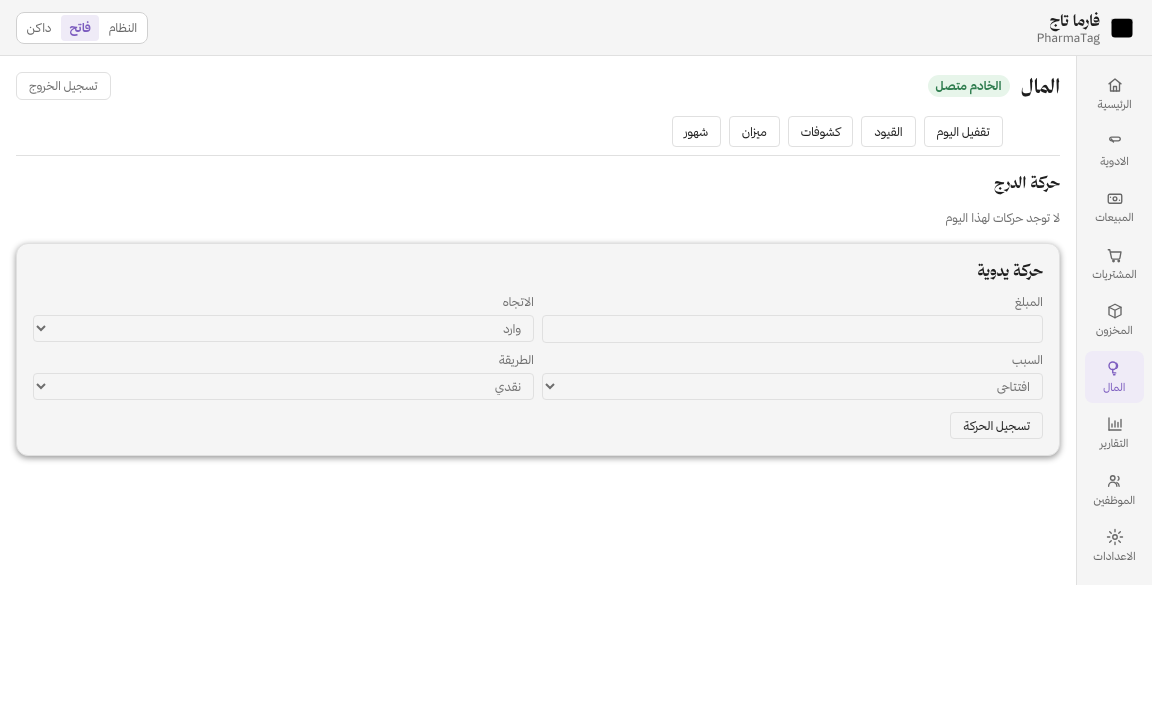
Test: MoneyPage — journals › lists entries and shows detail lines verbatim
Step 1. Click the tab "القيود" → (889, 132), box 861,116 -> 916,147
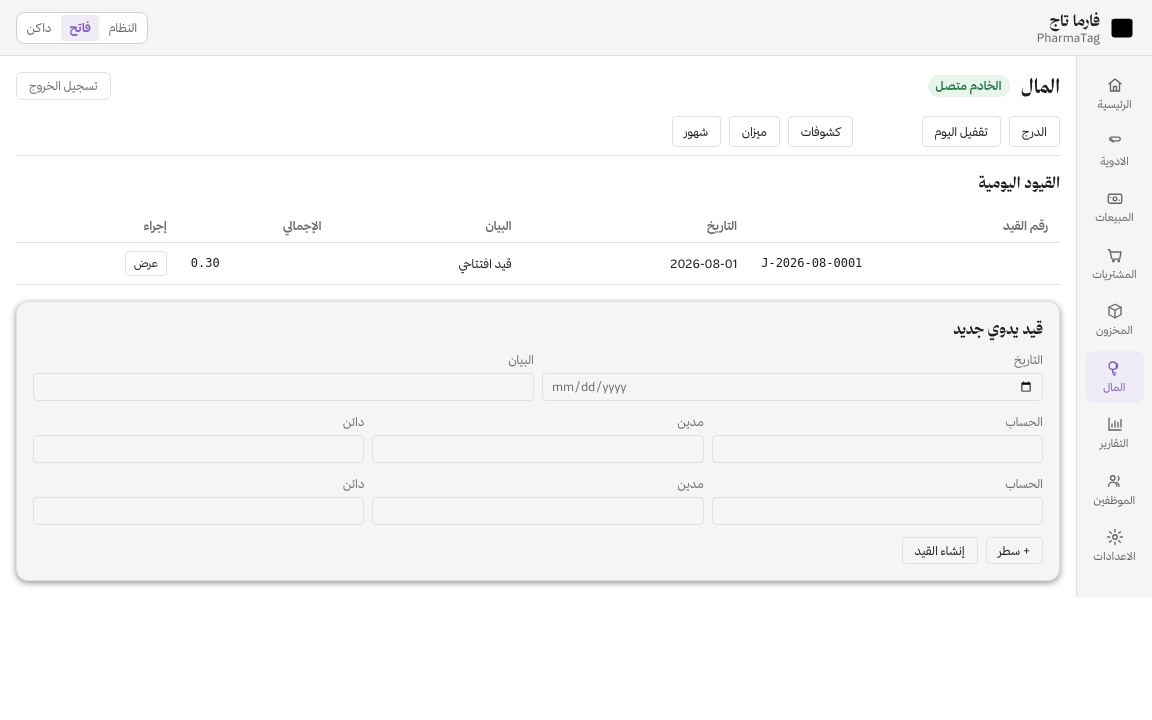
Expected: the text "قيد افتتاحي" is shown, 334,243 -> 524,284
Expected: the text "J-2026-08-0001" is shown, 749,243 -> 1060,284
Step 2. Click the button "عرض" → (146, 263), box 125,251 -> 167,276
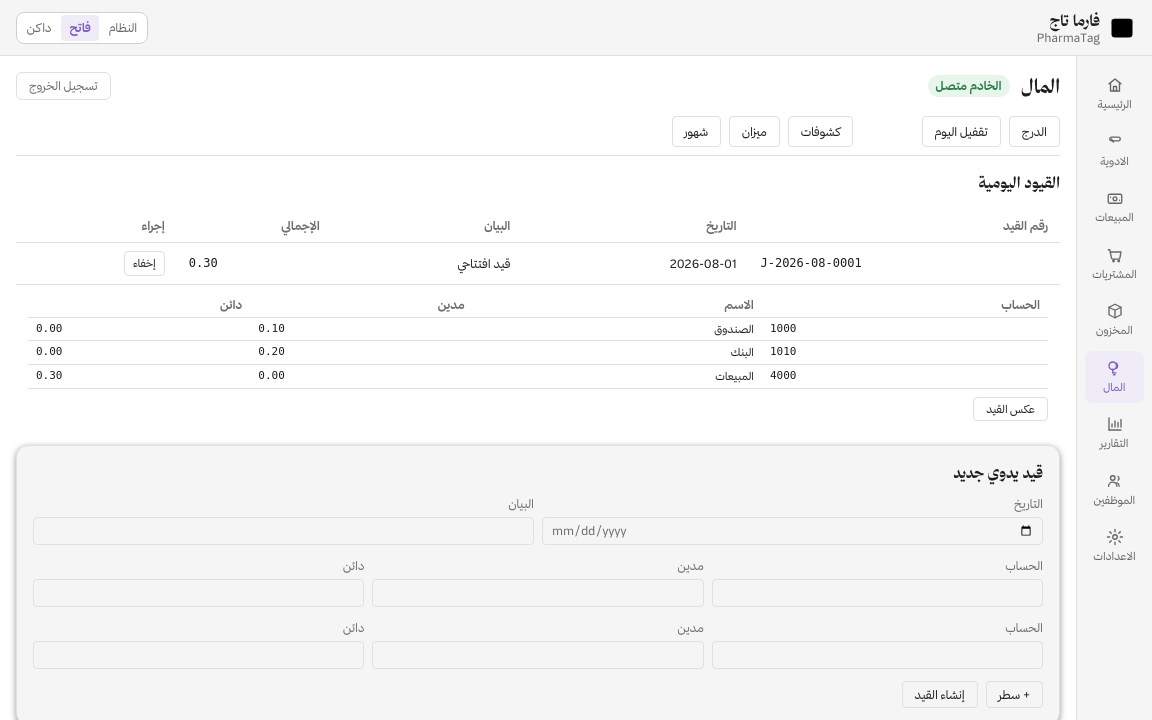
Expected: the text "0.30" is shown, 177,243 -> 332,284
Expected: the text "0.10" is shown, 250,317 -> 473,341
Expected: the text "0.20" is shown, 250,341 -> 473,365
